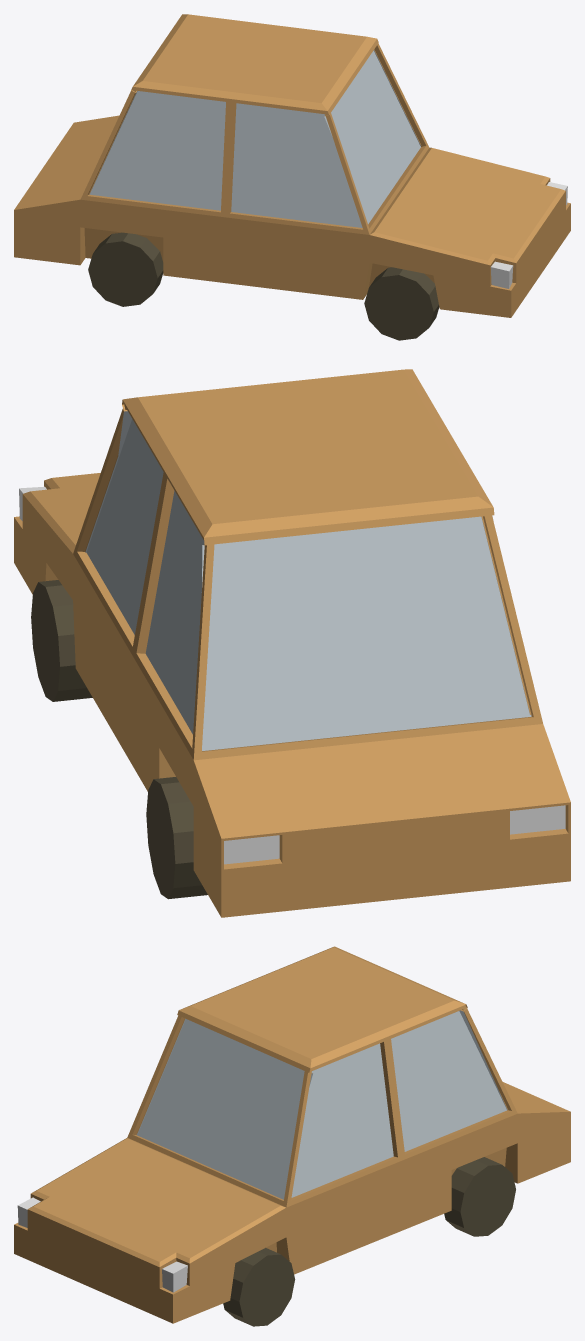
The picture shows the model from 3 angles, top to bottom: view 1: azimuth 30°, elevation 25°; view 2: azimuth 150°, elevation 25°; view 3: azimuth 270°, elevation 25°; orthographic projection. The views are drawn at different scales.
Visible parts, largest first — view 1: Car; view 2: Car; view 3: Car.
Boxes of the visible parts, left/top/right/bottom form: Car: left=14, top=14, right=570, bottom=340; Car: left=14, top=369, right=570, bottom=917; Car: left=14, top=946, right=570, bottom=1326.
Bounding box in the file's own units: 280 × 128 × 284.
